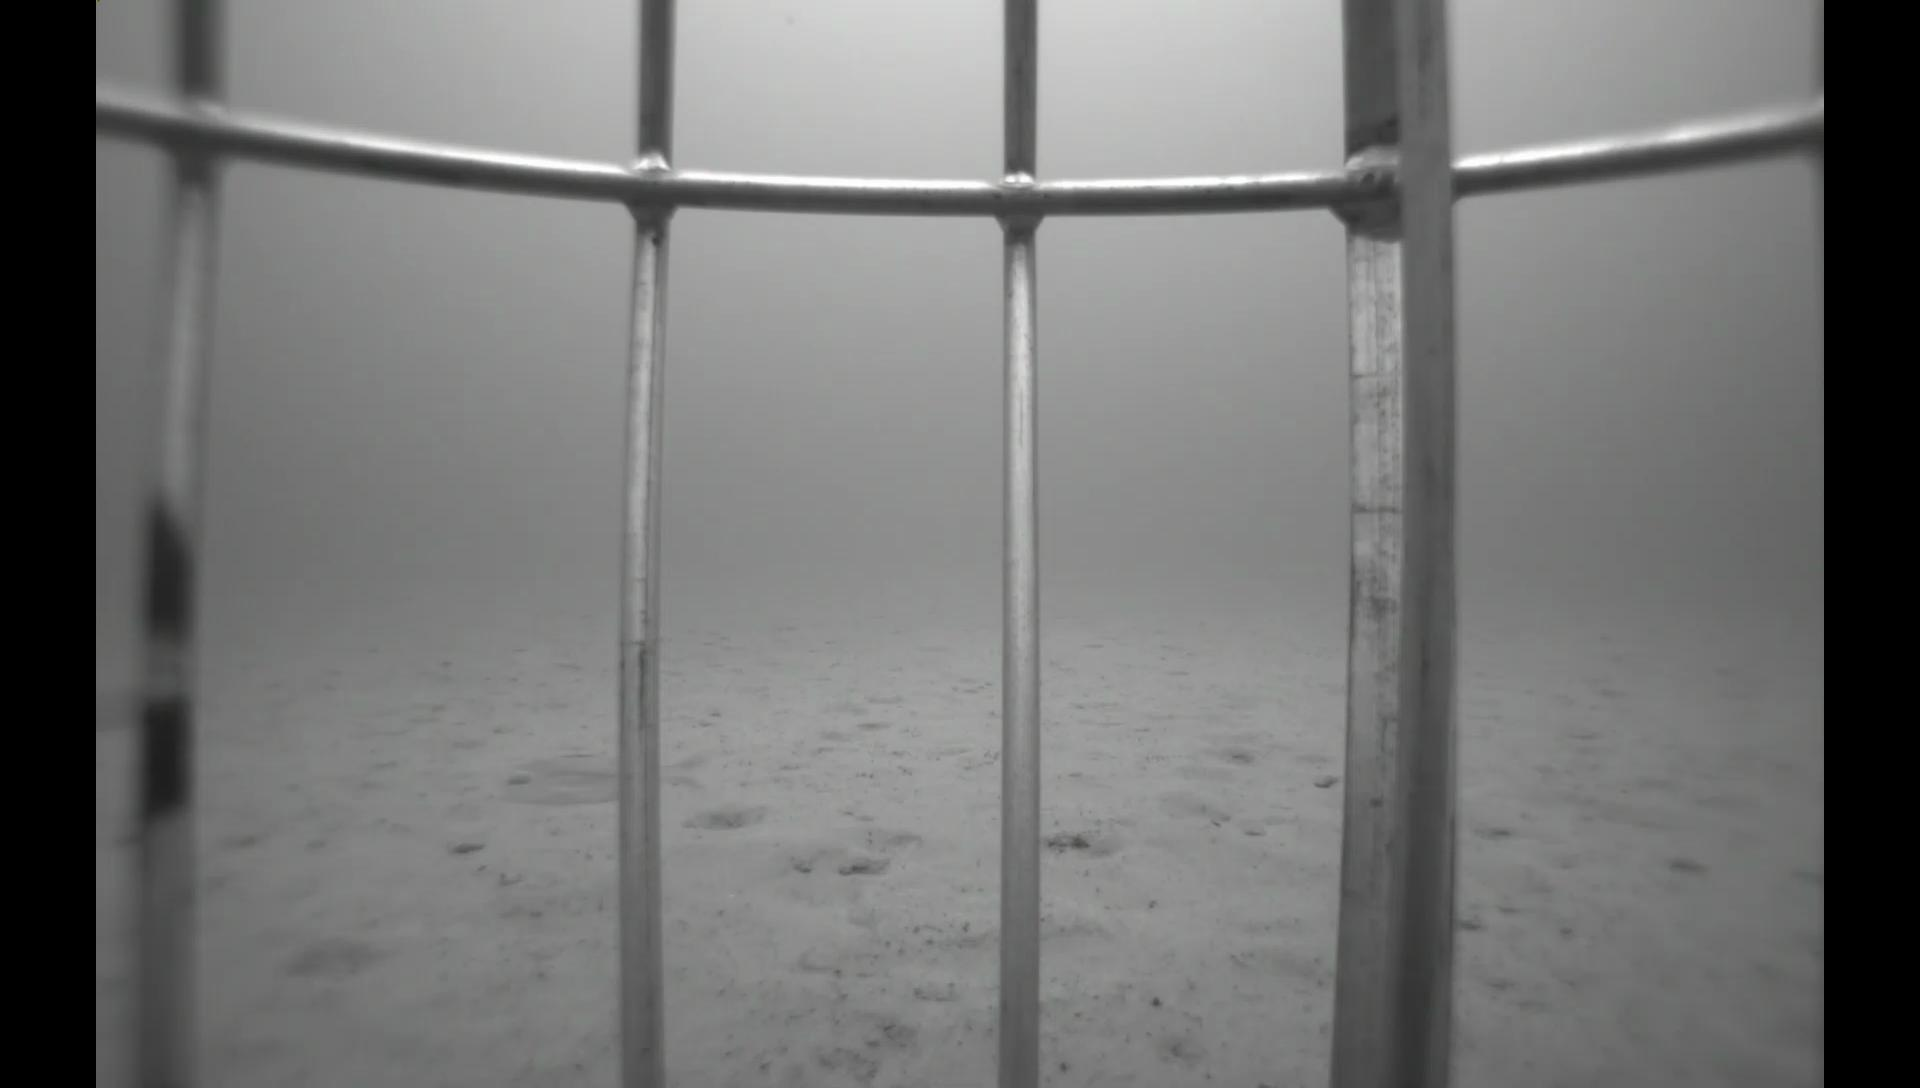CAULOLATILUSCYANOPS-170070101: (487, 746, 721, 811)
